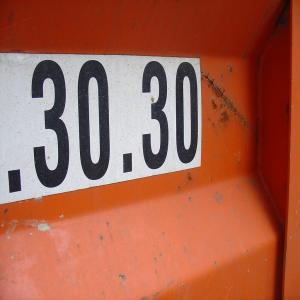Vehicle-registration-plate: (1, 54, 202, 206)
